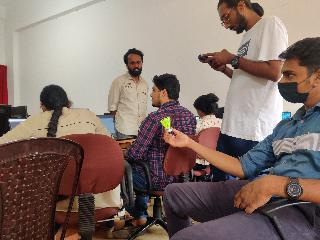shuttlecock: (159, 117, 171, 132)
